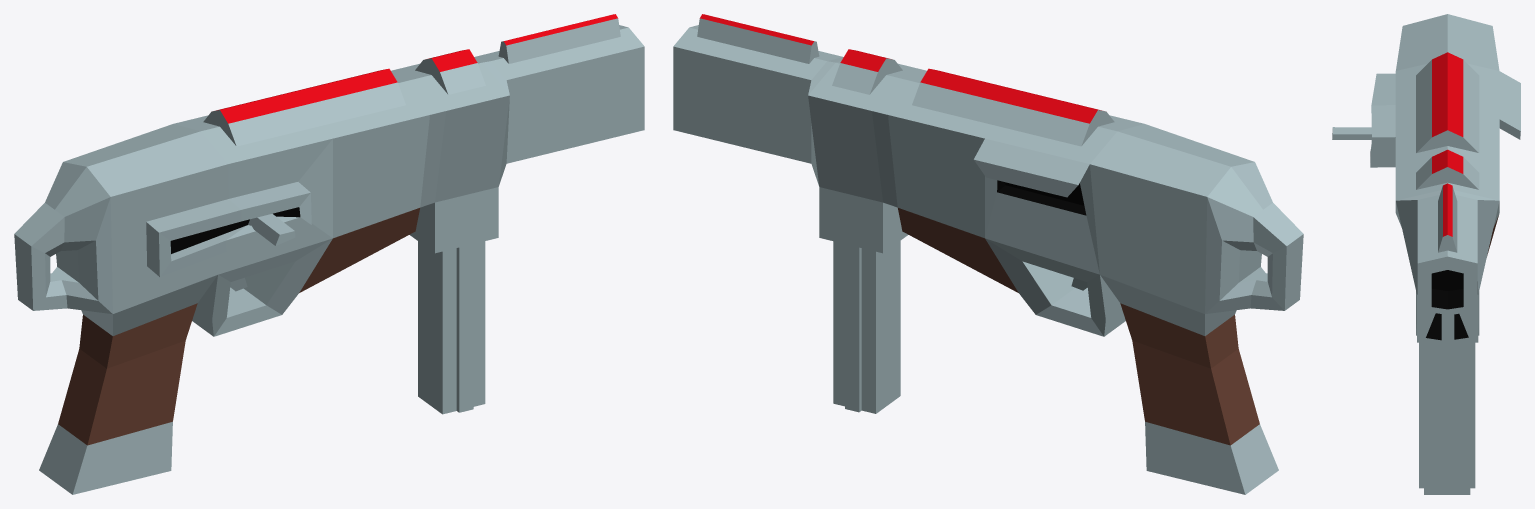
The model's file is LowPolySubMachineGun.fbx.
3 views of the same model, side by side, from view 1: azimuth 30°, elevation 25°; view 2: azimuth 150°, elevation 25°; view 3: azimuth 270°, elevation 25° (orthographic). The views are drawn at different scales.
Visible parts, largest first — view 1: Gun, Magazine; view 2: Gun, Magazine; view 3: Gun, Magazine.
Part boxes in pixels (x1,y1,x2,y2): Gun: (14, 14, 644, 494); Magazine: (418, 241, 485, 414); Gun: (673, 14, 1303, 494); Magazine: (833, 241, 900, 413); Gun: (1332, 14, 1520, 346); Magazine: (1419, 342, 1475, 494).
Size of the model in its own units: 49.38 by 26.98 by 14.13.
